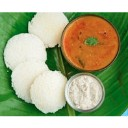idly: (30, 69, 68, 113), (5, 32, 46, 70), (12, 61, 48, 102), (28, 11, 66, 47)
